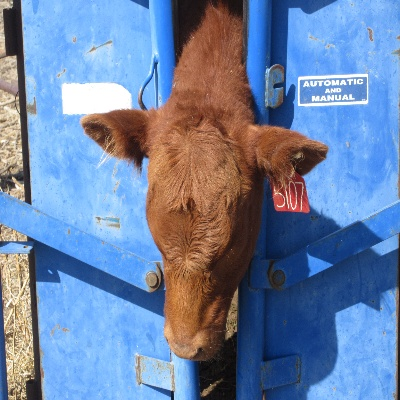fidget_spinner: (151, 332, 224, 364), (161, 332, 224, 364), (161, 332, 212, 364)
